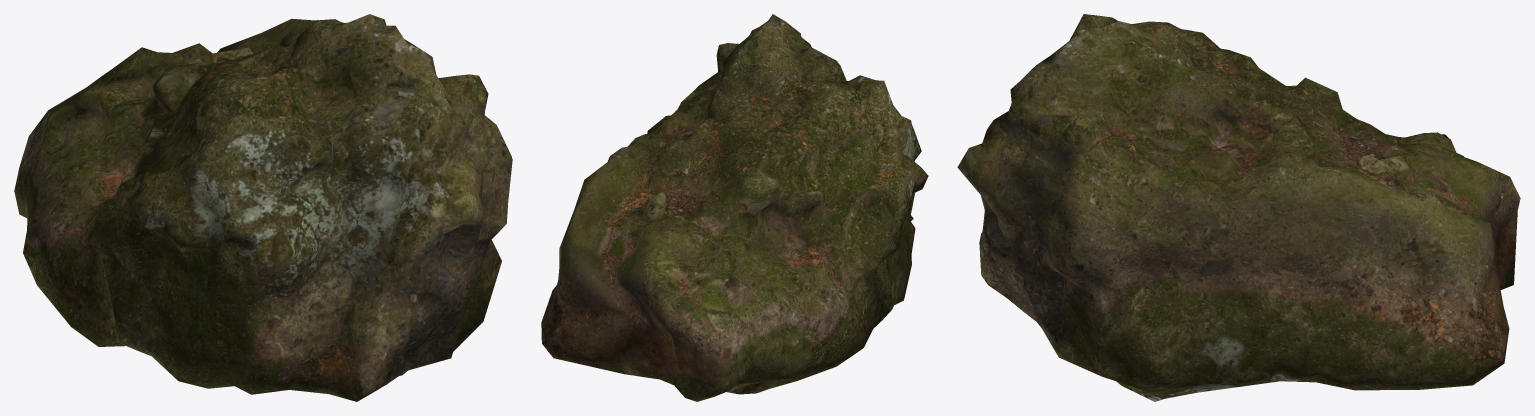
Rendered from Mossy_Forest_Rock_vimrfjsaw_Low.gltf.
The picture shows the model from 3 angles, left to right: view 1: azimuth 30°, elevation 25°; view 2: azimuth 150°, elevation 25°; view 3: azimuth 270°, elevation 25°; orthographic projection. The views are drawn at different scales.
Visible parts, largest first — view 1: vimrfjsaw_LOD0_TIER3_000; view 2: vimrfjsaw_LOD0_TIER3_000; view 3: vimrfjsaw_LOD0_TIER3_000.
Boxes of the visible parts, bbox=[...] form: vimrfjsaw_LOD0_TIER3_000: bbox=[14, 14, 512, 401]; vimrfjsaw_LOD0_TIER3_000: bbox=[541, 14, 928, 401]; vimrfjsaw_LOD0_TIER3_000: bbox=[957, 14, 1520, 401].
Size of the model in its own units: 0.5876 by 0.623 by 0.8694.
